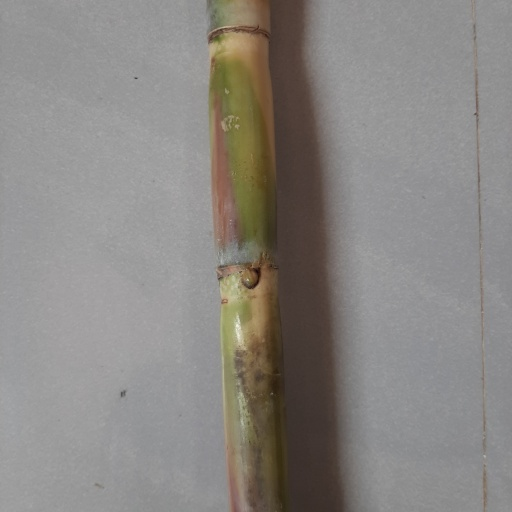Bud: (236, 269, 260, 292)
